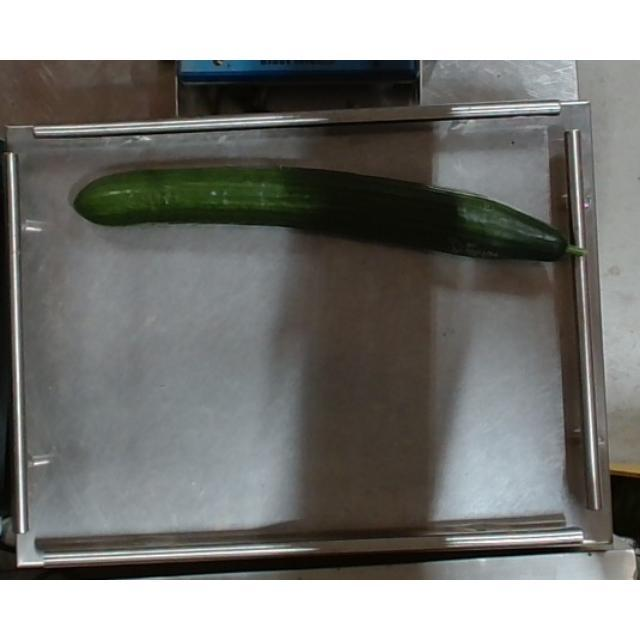cucumber: (74, 158, 590, 264)
